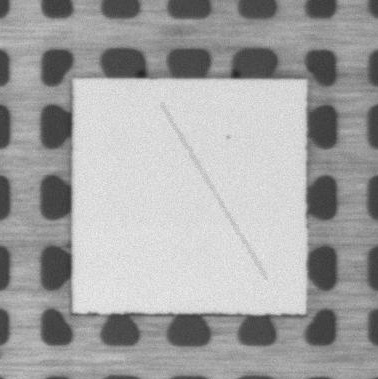DIE_CRACK: (161, 103, 267, 279)
